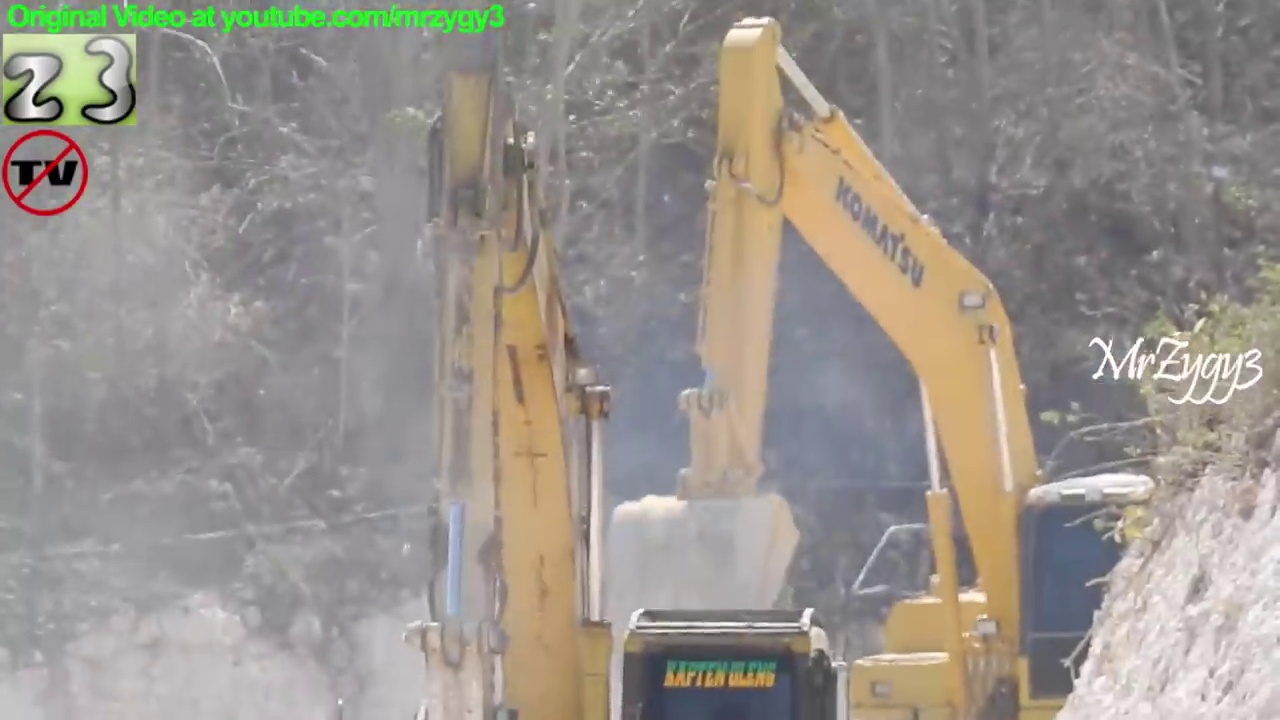excavator: (581, 14, 1202, 720), (379, 48, 857, 720)
